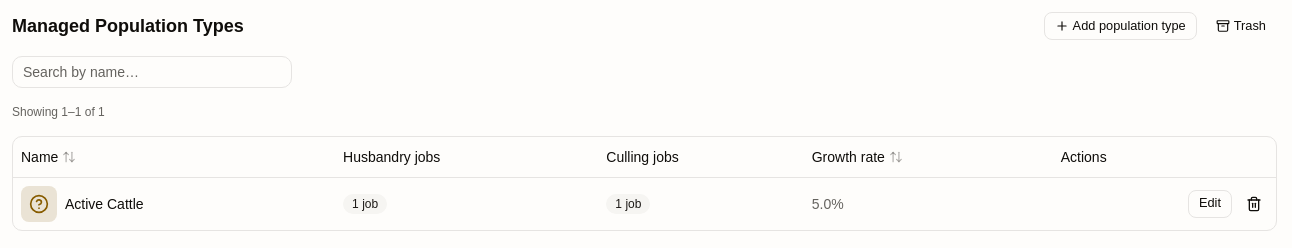
Test: ManagedPopulationsConfigPanel › shows trashed population types when trash view is toggled
The width and height of the screenshot is (1292, 248).
Expected: the text "Active Cattle" is shown, [65,194,144,214]
Expected: the text "Trashed Cattle" is not shown
Click the button with aria-label "Show trash" at (1241, 26), box [1205,12,1277,40]
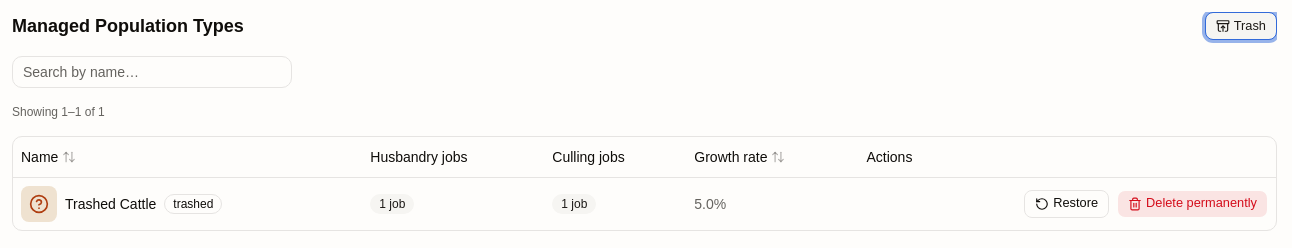
Expected: the text "Trashed Cattle" is shown, [65,194,156,214]
Expected: the button with aria-label "Hide trash" is shown, [1205,12,1277,40]
